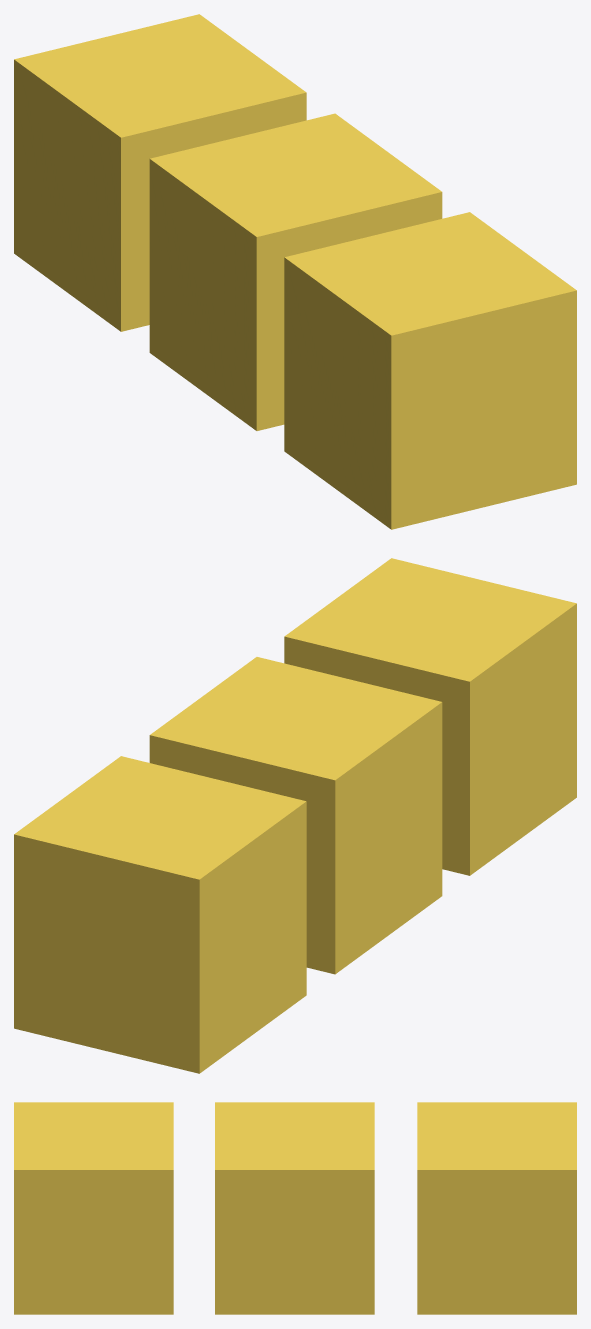
Rendered from menülayout text.fbx.
3 renders of one model, top to bottom at view 1: azimuth 30°, elevation 25°; view 2: azimuth 150°, elevation 25°; view 3: azimuth 270°, elevation 25°, orthographic. The views are drawn at different scales.
Parts seen in each view (by area): view 1: Würfel.002, Würfel.001, Würfel; view 2: Würfel.001, Würfel, Würfel.002; view 3: Würfel, Würfel.001, Würfel.002.
Part boxes in pixels (box(x1,y1,x2,y2)): Würfel.002: box(284, 212, 576, 529); Würfel.001: box(14, 14, 306, 331); Würfel: box(149, 113, 442, 430); Würfel.001: box(14, 756, 306, 1073); Würfel: box(149, 657, 442, 974); Würfel.002: box(284, 558, 576, 875); Würfel: box(215, 1102, 374, 1314); Würfel.001: box(417, 1102, 576, 1314); Würfel.002: box(14, 1102, 173, 1314).
Bounding box in the file's own units: 399 × 399 × 1406.
